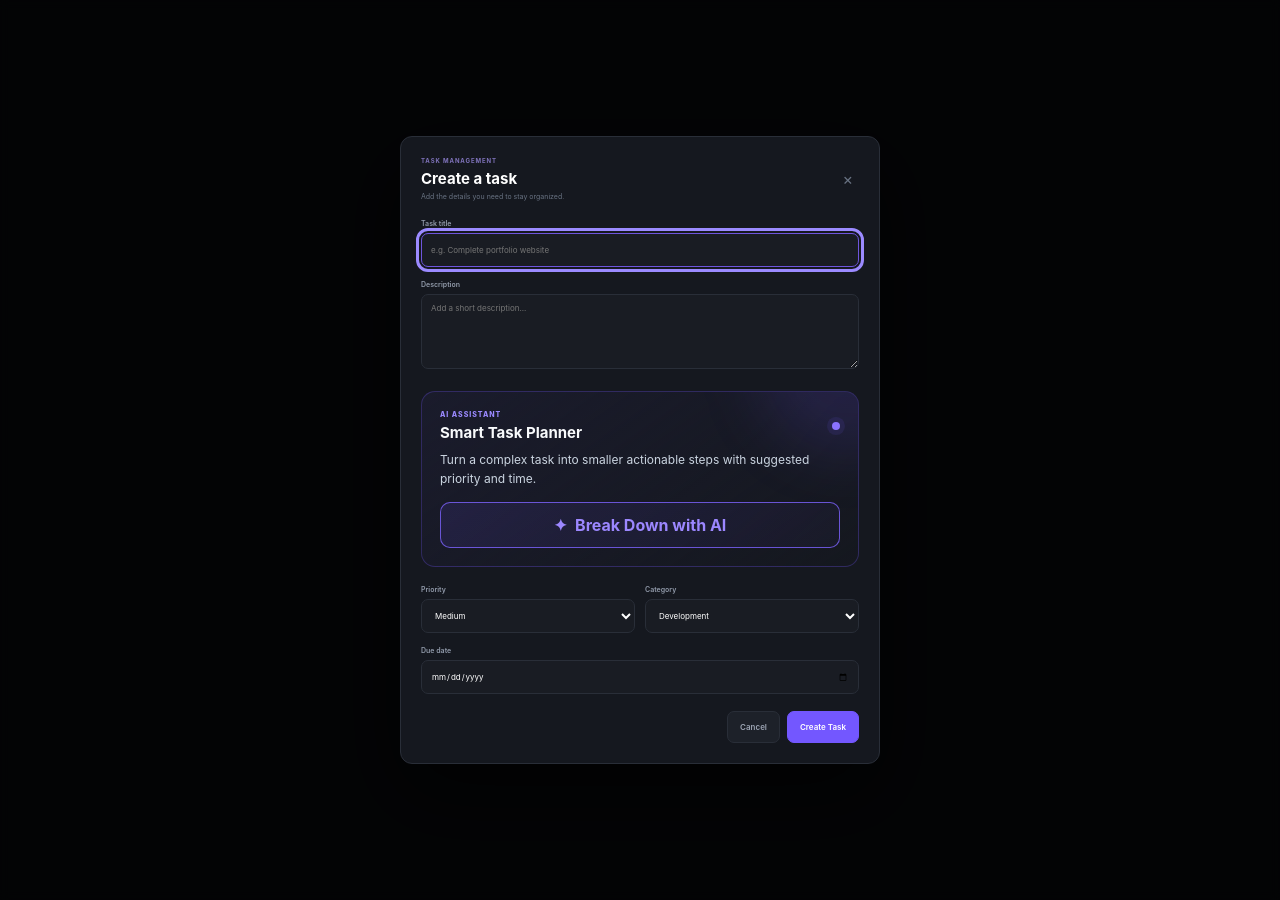
TaskModal › shows error when AI is used without a task title
Click the button "✦ Break Down with AI": click(640, 525) x1=440 y1=502 x2=840 y2=548
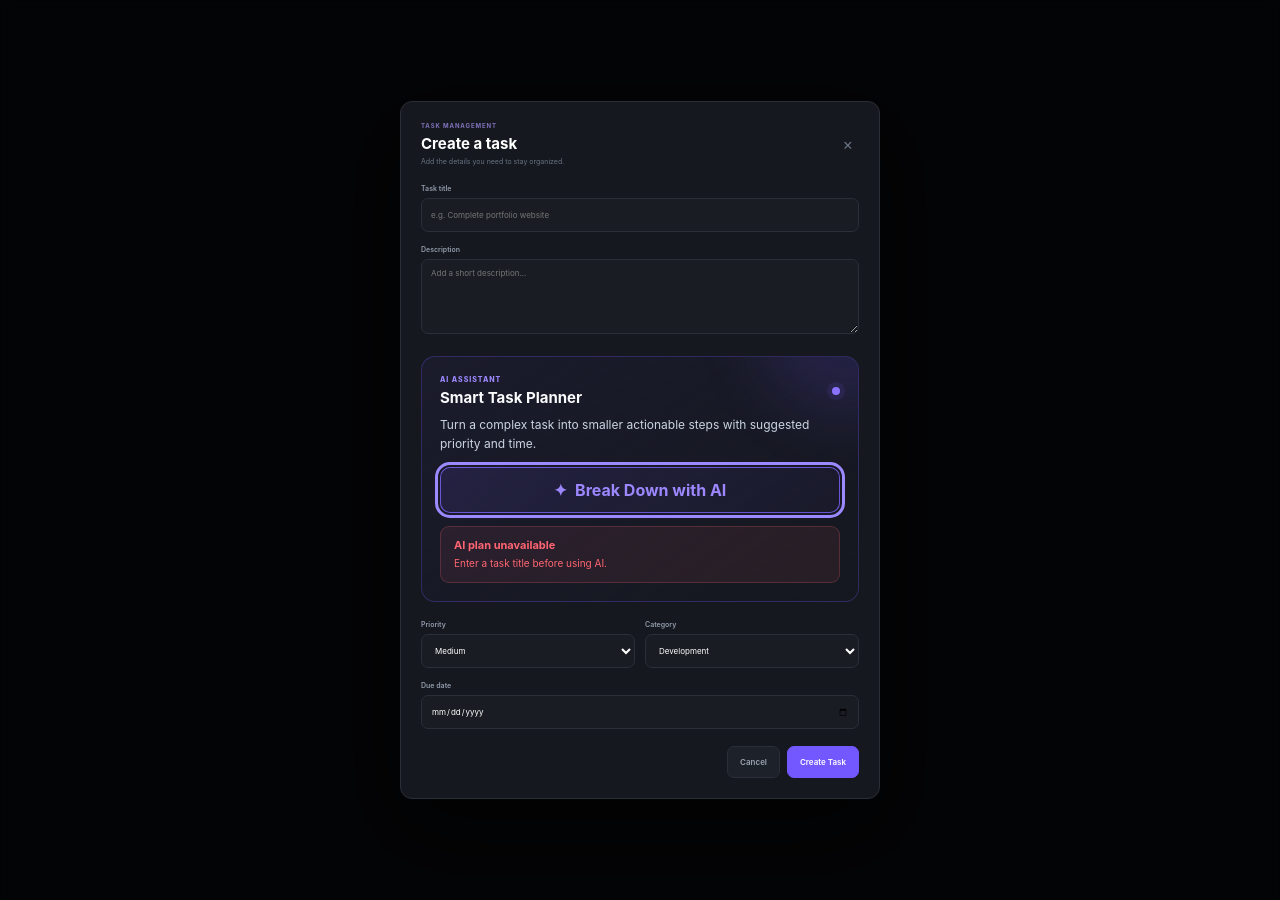
Now the message shows "Enter a task title before using AI.", box x1=454 y1=557 x2=607 y2=569
